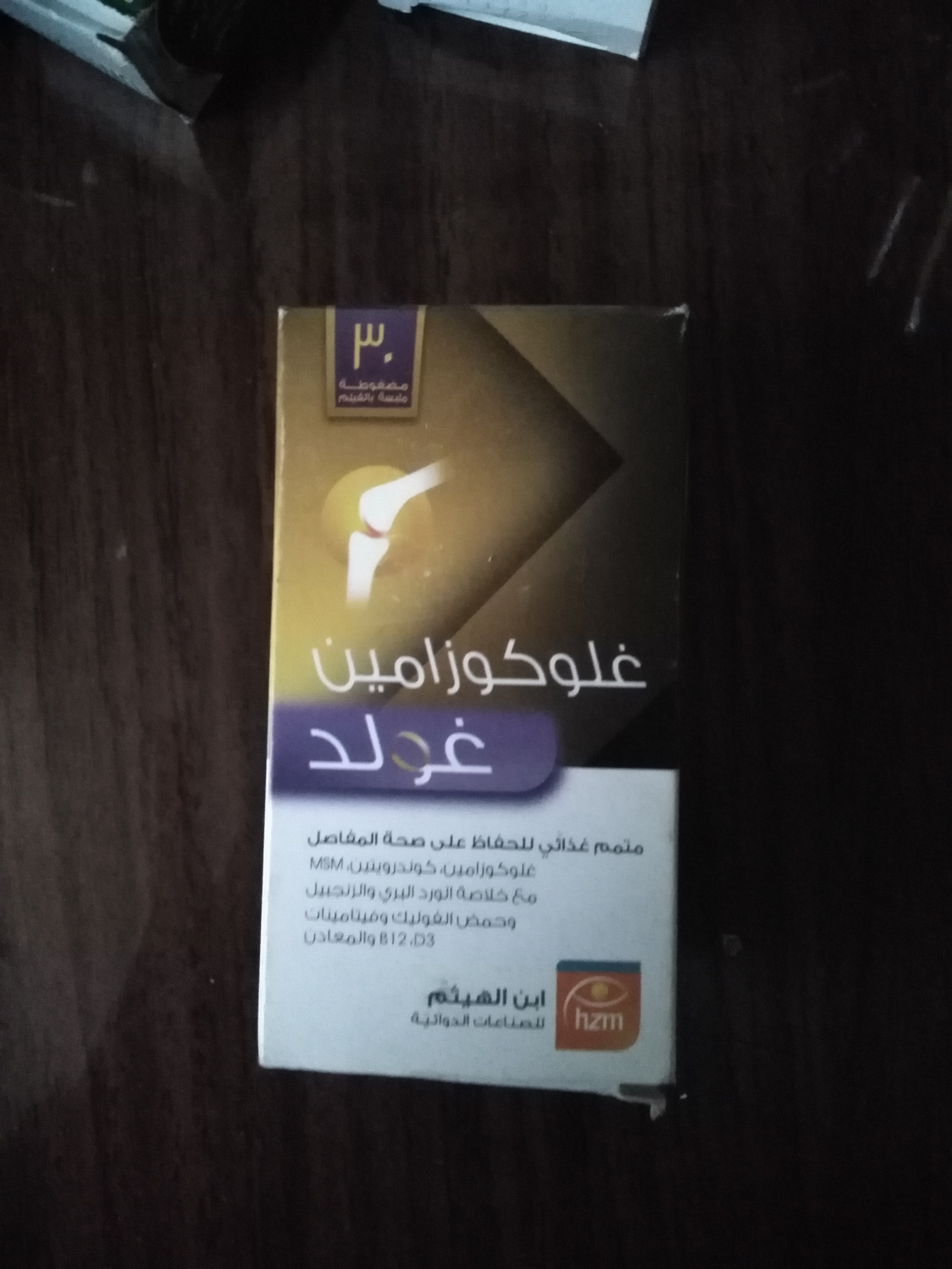Medicine: (257, 270, 682, 1129)
